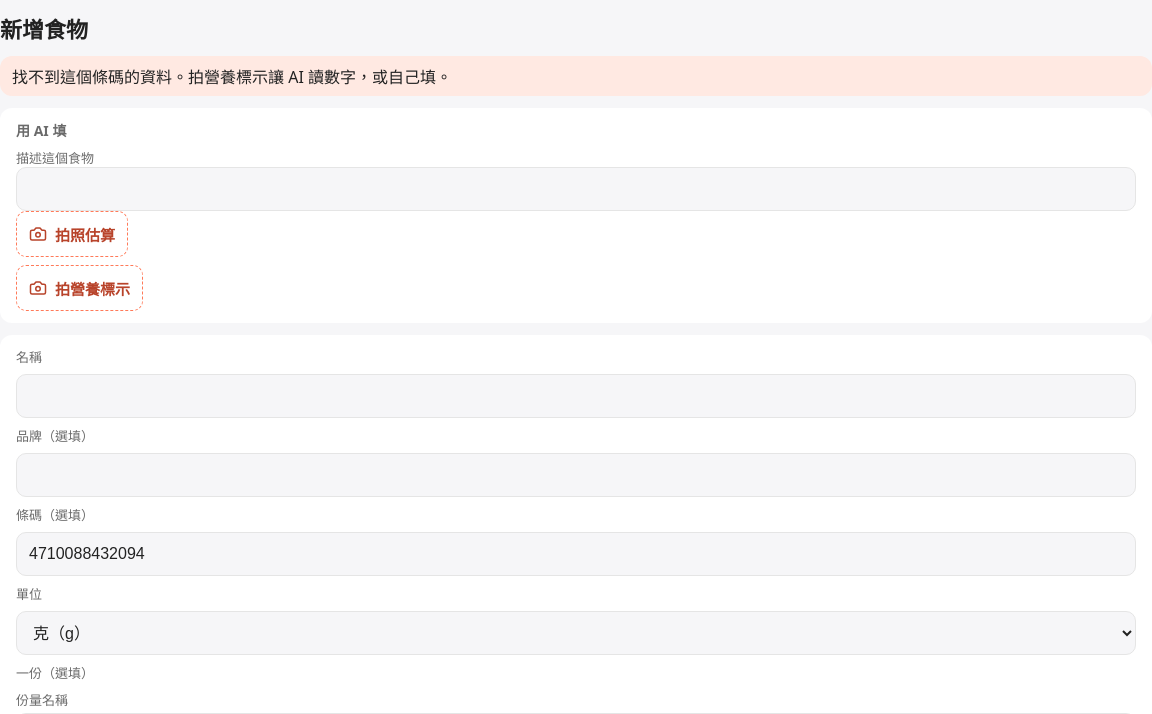
Scenario: 新增食物：存好之後回去（掃條碼規格 D20） › 有 returnTo 時，AI 面板存好的食物也交回去——帶著條碼（審查 M2）
In the field labelled "描述這個食物": (576, 189) [16,167,1136,211], type "一碗牛肉麵"
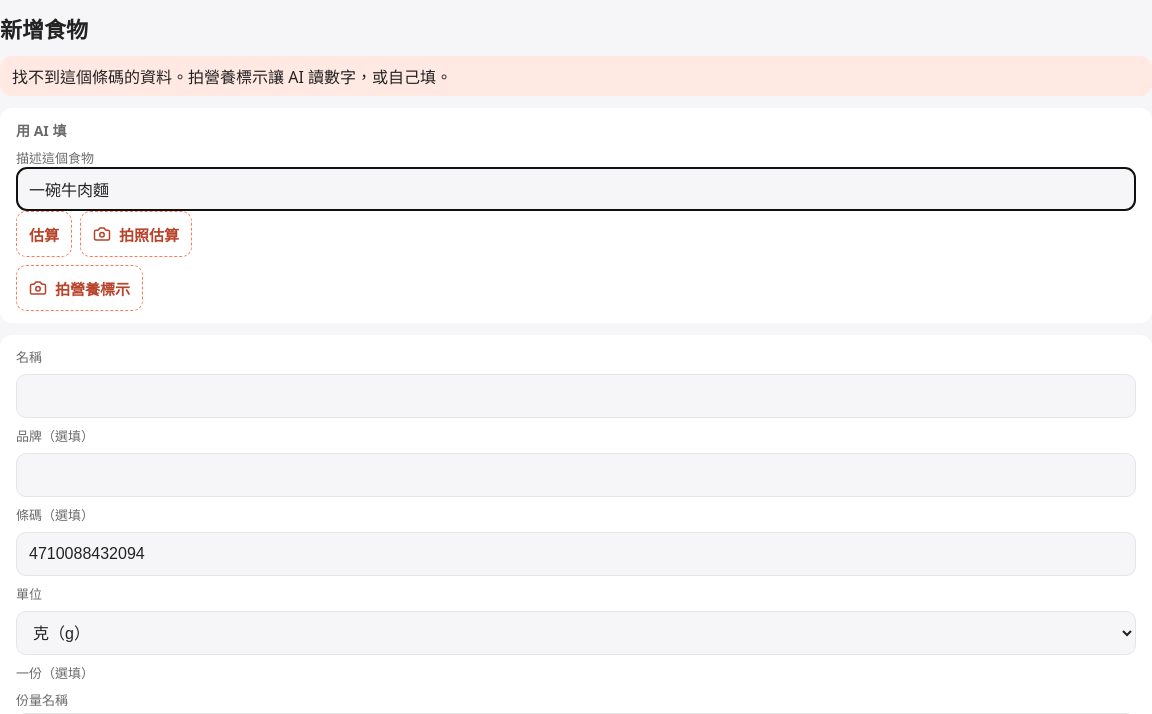
Click the button "估算": (44, 234) [16,211,72,257]
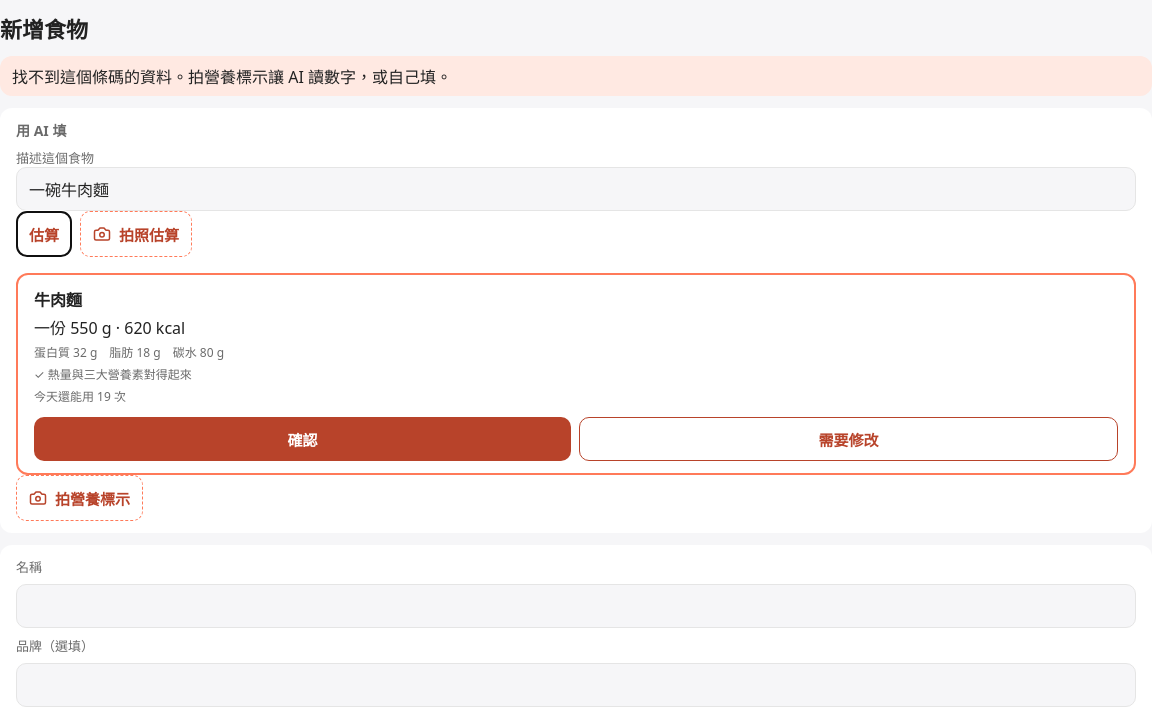
Click the button "確認": (302, 439) [34,417,571,461]
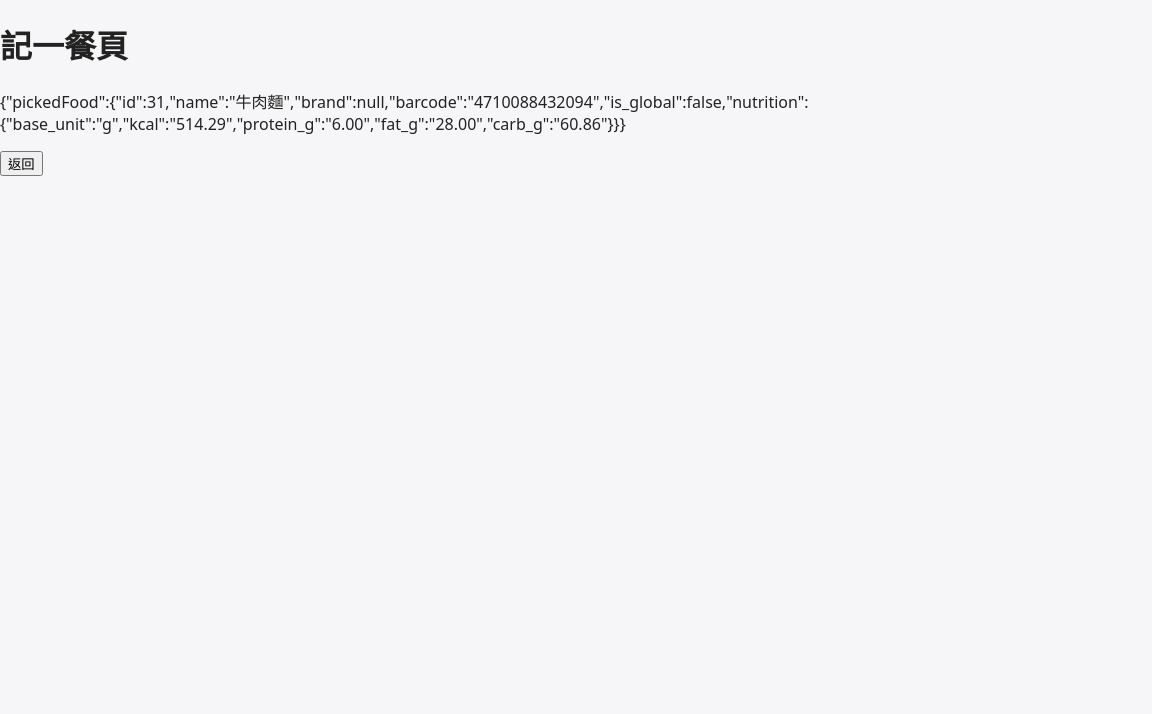
Expected: the heading "記一餐頁" is shown, [0,24,128,67]
